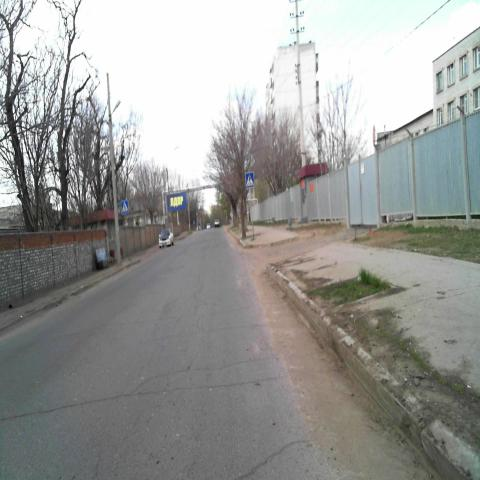5_19_1: (120, 198, 129, 214), (246, 173, 253, 187)
